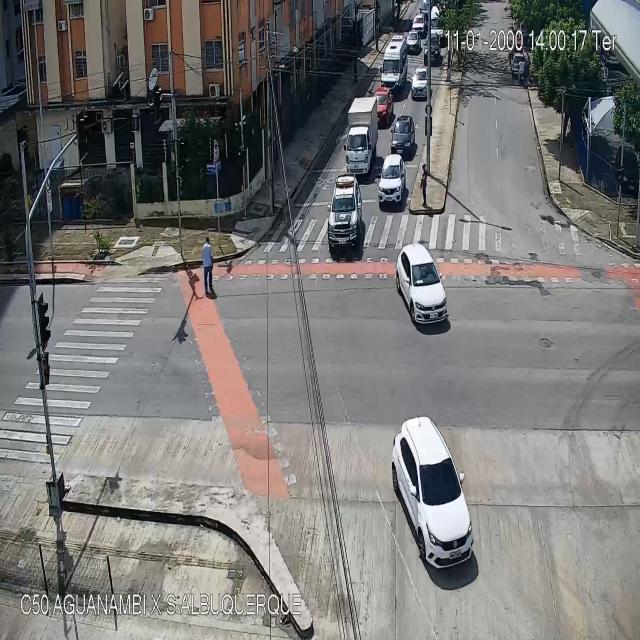Car: (389, 416, 477, 569), (397, 243, 449, 327), (327, 174, 363, 250), (343, 97, 378, 171), (379, 33, 407, 90), (378, 152, 402, 206), (391, 115, 415, 155), (375, 86, 395, 127), (410, 68, 430, 102), (423, 34, 440, 70), (510, 53, 526, 76), (407, 27, 419, 52), (411, 14, 423, 33)
Motorcycle: (518, 58, 524, 84)
